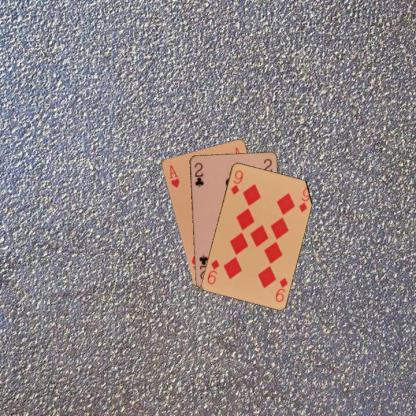2c: (192, 160, 204, 188)
9d: (273, 274, 289, 304), (228, 167, 244, 196)
Ah: (166, 162, 180, 189)
